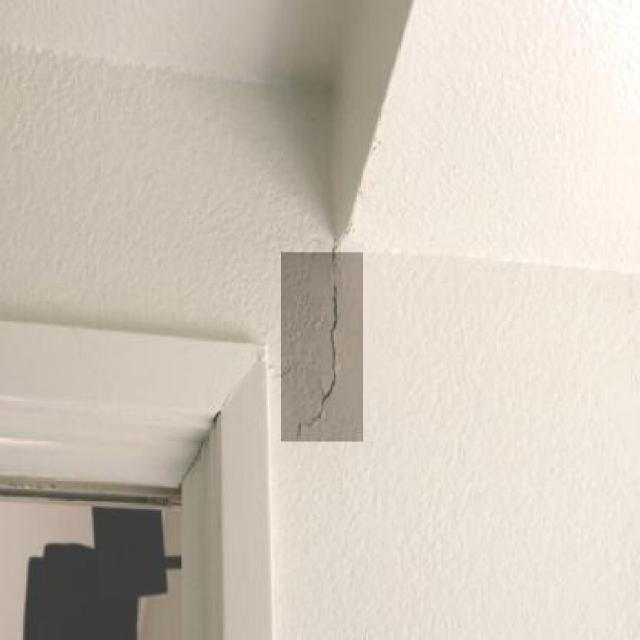Crack: (299, 245, 356, 434)
